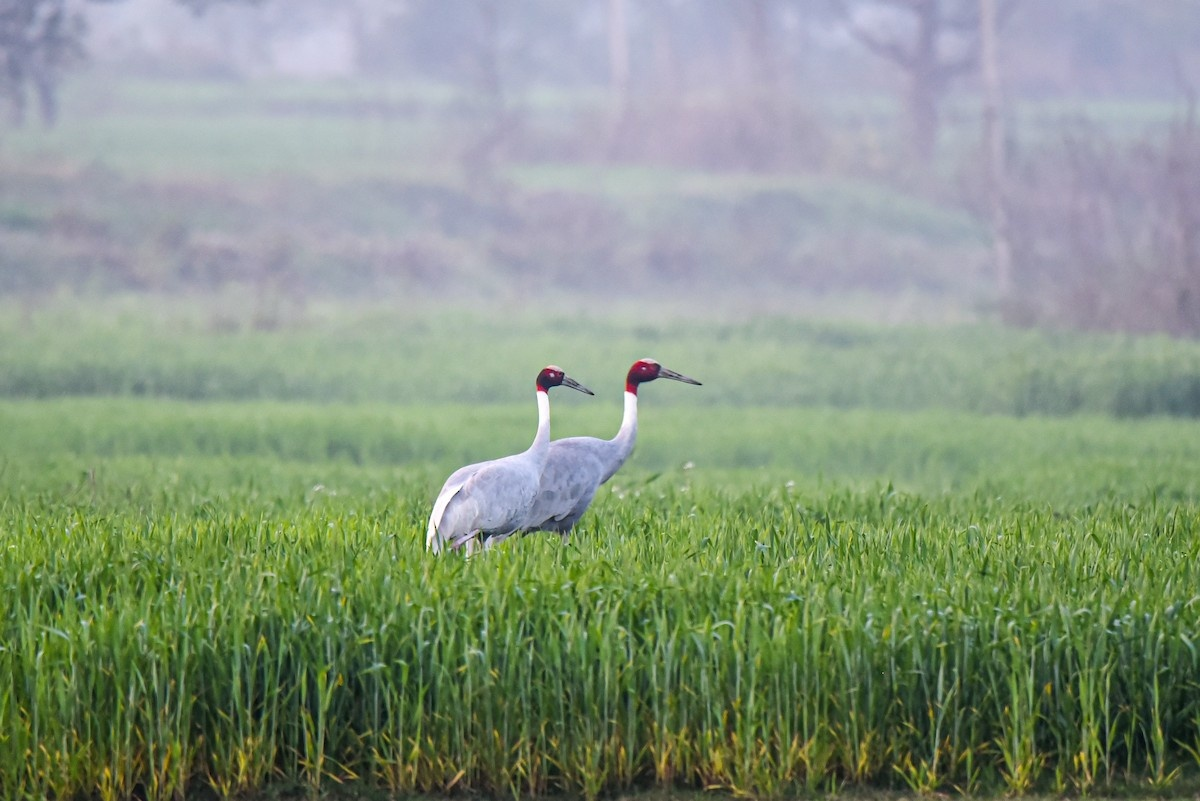crane: (436, 364, 597, 549), (585, 356, 704, 490)
